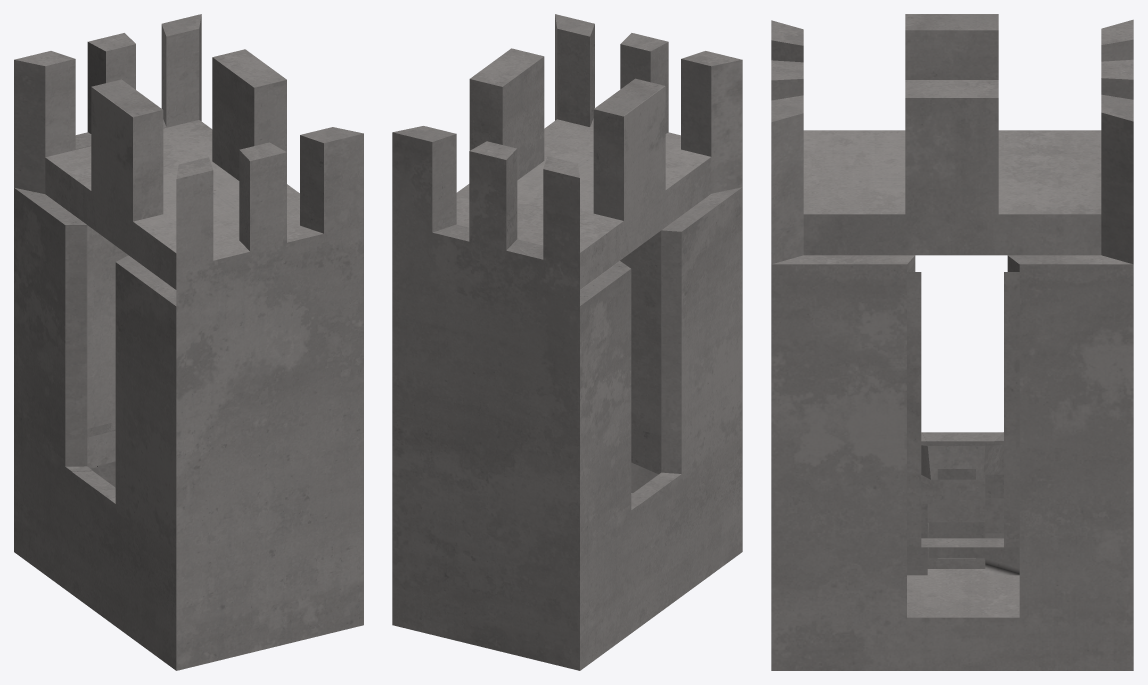
File: Tower1.fbx
3 views of the same model, side by side, from view 1: azimuth 30°, elevation 25°; view 2: azimuth 150°, elevation 25°; view 3: azimuth 270°, elevation 25° (orthographic). The views are drawn at different scales.
Parts seen in each view (by area): view 1: Fight 1; view 2: Fight 1; view 3: Fight 1.
Boxes of the visible parts, box(x1,y1,x2,y2) form: Fight 1: box(14, 14, 363, 670); Fight 1: box(392, 14, 742, 670); Fight 1: box(771, 14, 1133, 670).
Size of the model in its own units: 4820 by 12421 by 7230.
Materials: 1 (1 with a texture image).
